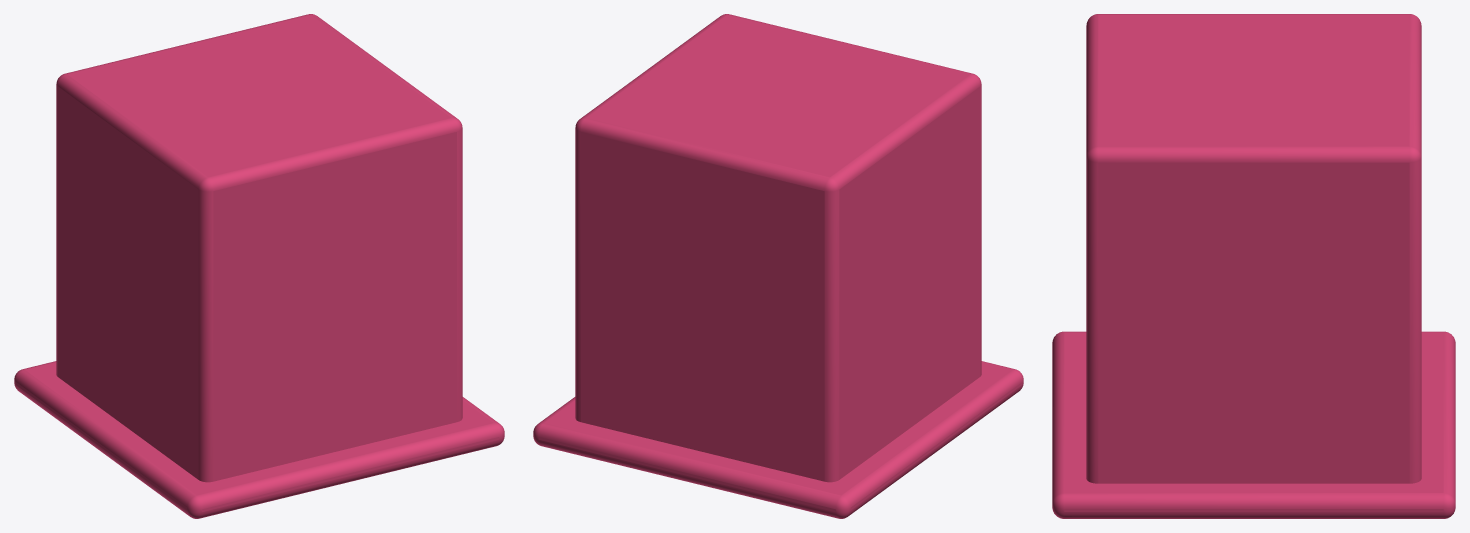
The model's file is khoitru.fbx.
3 views of the same model, side by side, from view 1: azimuth 30°, elevation 25°; view 2: azimuth 150°, elevation 25°; view 3: azimuth 270°, elevation 25° (orthographic). The views are drawn at different scales.
Visible parts, largest first — view 1: Group1; view 2: Group1; view 3: Group1.
Boxes of the visible parts, left/top/right/bottom form: Group1: left=14, top=14, right=504, bottom=518; Group1: left=533, top=14, right=1023, bottom=518; Group1: left=1052, top=14, right=1455, bottom=518.
Size of the model in its own units: 168 by 164 by 168.
